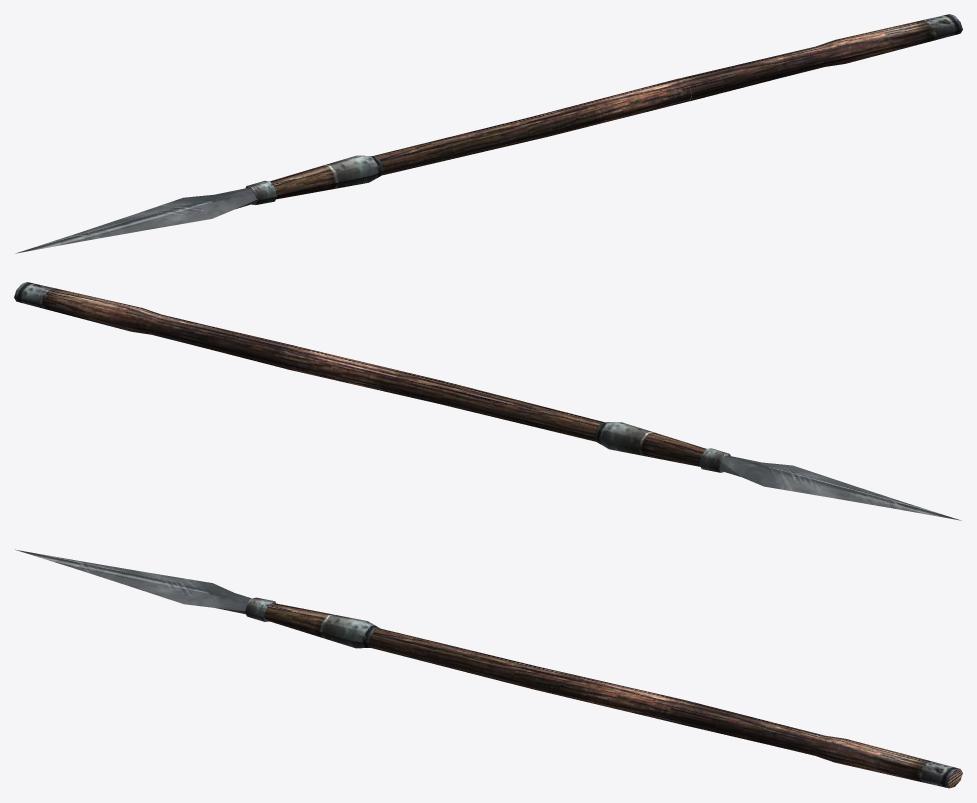
File: ITMW_2H_SPEAR_04.glb
3 views of the same model, one above another, from view 1: azimuth 30°, elevation 25°; view 2: azimuth 150°, elevation 25°; view 3: azimuth 330°, elevation 25° (orthographic).
Visible parts, largest first — view 1: ITMW_2H_SPEAR_04; view 2: ITMW_2H_SPEAR_04; view 3: ITMW_2H_SPEAR_04.
Part boxes in pixels (left/top/right/bottom): ITMW_2H_SPEAR_04: left=15, top=14, right=962, bottom=253; ITMW_2H_SPEAR_04: left=14, top=282, right=960, bottom=520; ITMW_2H_SPEAR_04: left=15, top=549, right=962, bottom=788.
Size of the model in its own units: 1.85 by 0.0478 by 0.0982.
2 materials, 2 textured.
